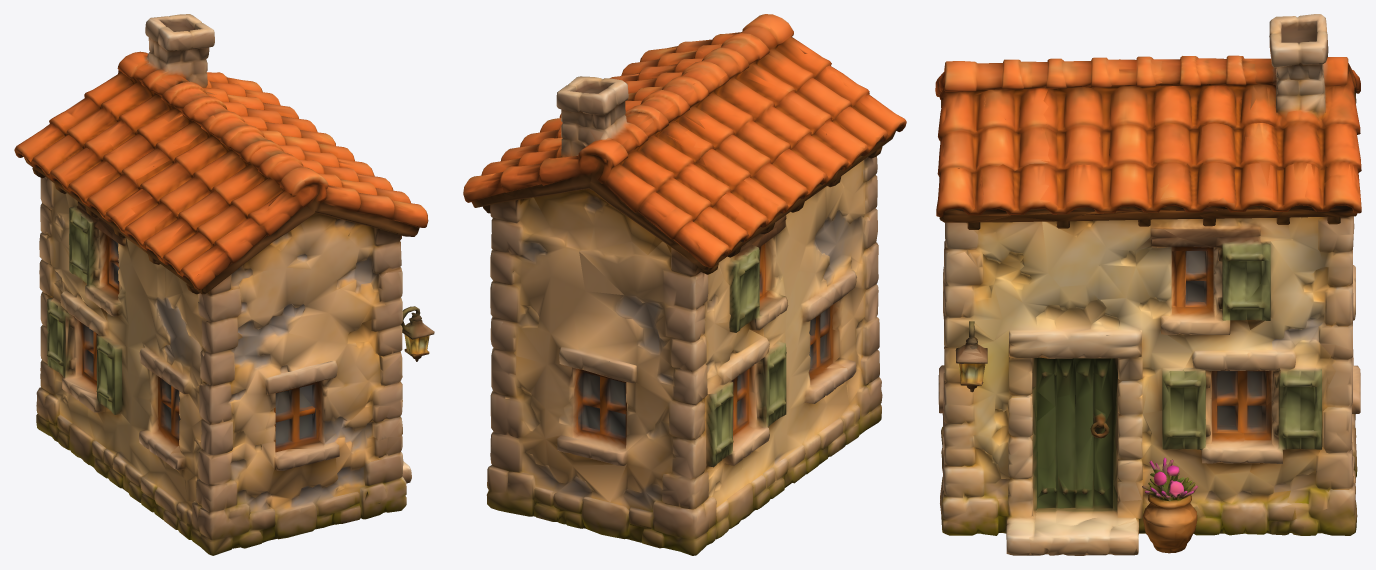
Rendered from Piece14.fbx.
3 renders of one model, left to right at view 1: azimuth 30°, elevation 25°; view 2: azimuth 150°, elevation 25°; view 3: azimuth 270°, elevation 25°, orthographic. The views are drawn at different scales.
Visible parts, largest first — view 1: Piece14; view 2: Piece14; view 3: Piece14.
Part boxes in pixels (x1,y1,x2,y2): Piece14: (14, 14, 434, 555); Piece14: (463, 14, 906, 555); Piece14: (935, 14, 1361, 555).
Size of the model in its own units: 67.17 by 99.99 by 82.67.
Materials: 1 (1 with a texture image).
